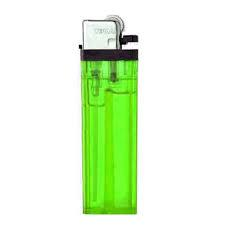lighter: (79, 13, 137, 216)
